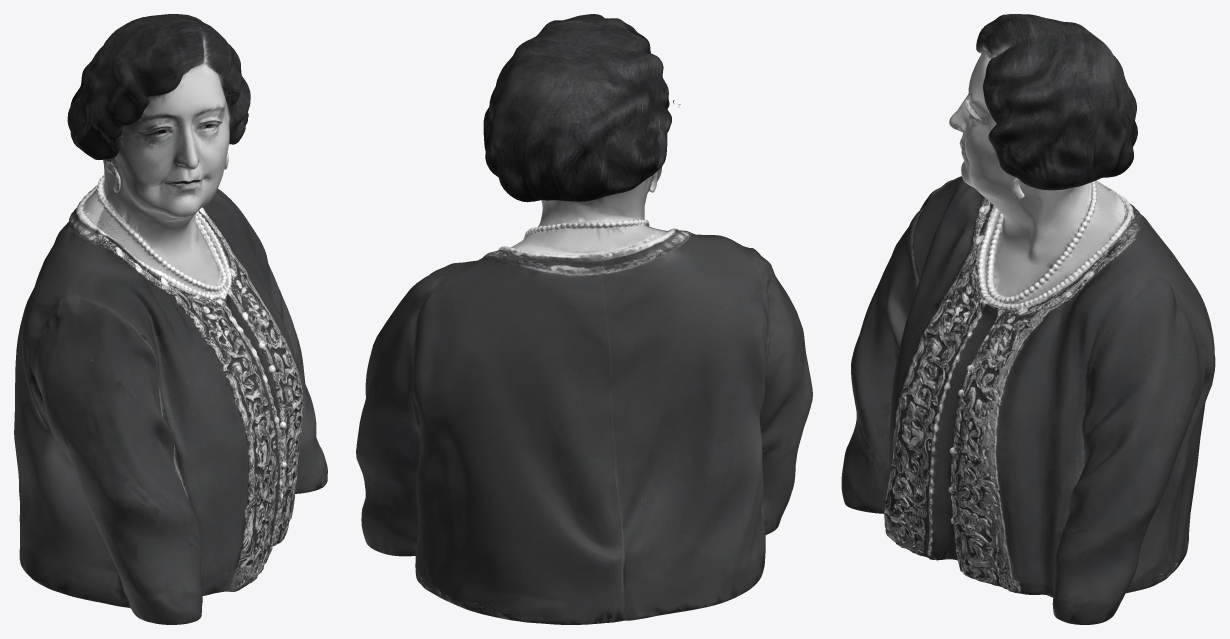
Rendered from carmen_burgos_opt.glb.
3 views of the same model, side by side, from view 1: azimuth 30°, elevation 25°; view 2: azimuth 150°, elevation 25°; view 3: azimuth 270°, elevation 25° (orthographic). The views are drawn at different scales.
Bounding box in the file's own units: 1.32 × 1.9 × 1.24.
1 material, 1 textured.
